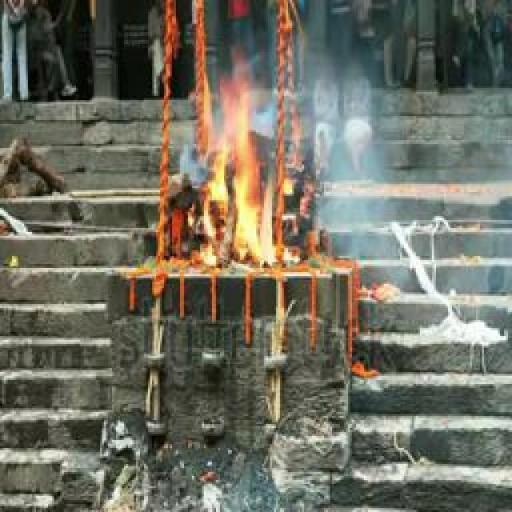smoke: (198, 74, 278, 265)
